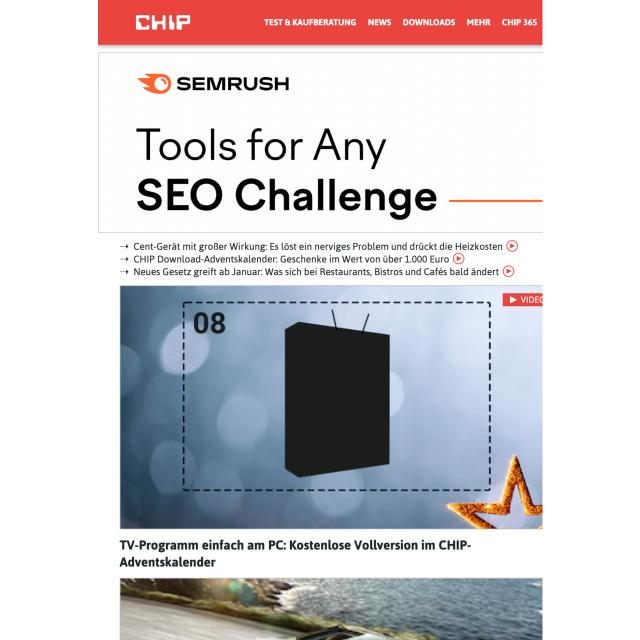logo: (133, 12, 195, 35)
navigation: (260, 13, 539, 30)
